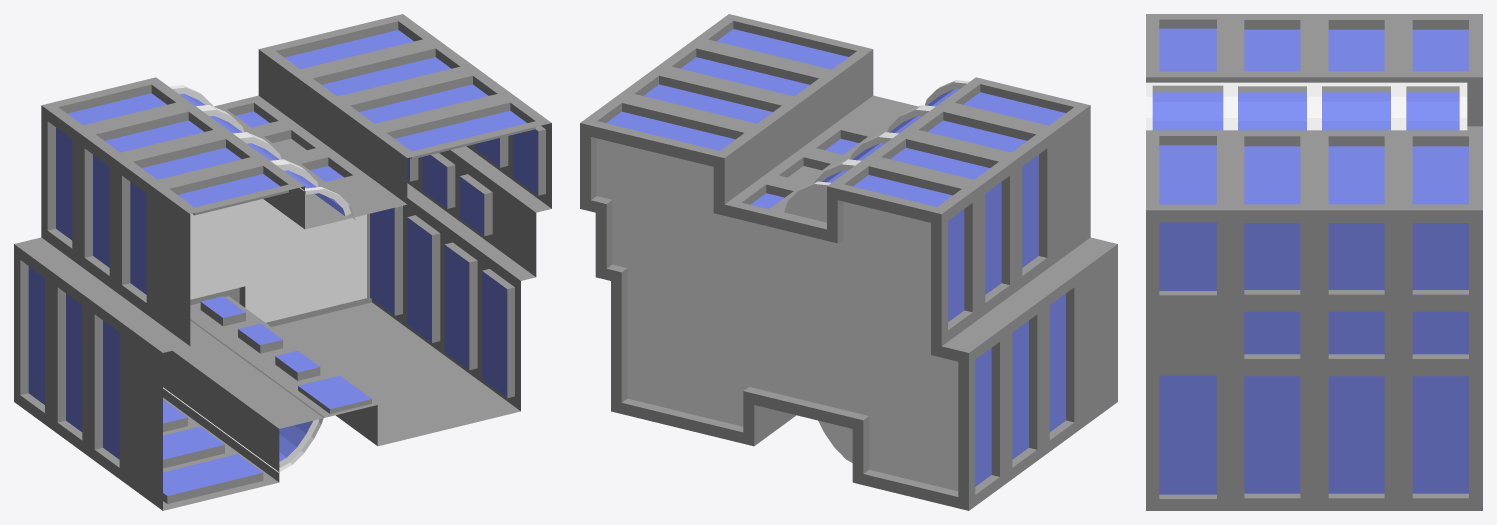
File: Monaco Appartments.fbx
3 views of the same model, side by side, from view 1: azimuth 30°, elevation 25°; view 2: azimuth 150°, elevation 25°; view 3: azimuth 270°, elevation 25° (orthographic). The views are drawn at different scales.
Visible parts, largest first — view 1: Cube; view 2: Cube; view 3: Cube.
Boxes of the visible parts, x1,y1,x2,y2 form: Cube: (14,14,551,510); Cube: (580,14,1117,510); Cube: (1146,14,1482,510).
Bounding box in the file's own units: 27.14 × 19.55 × 18.
